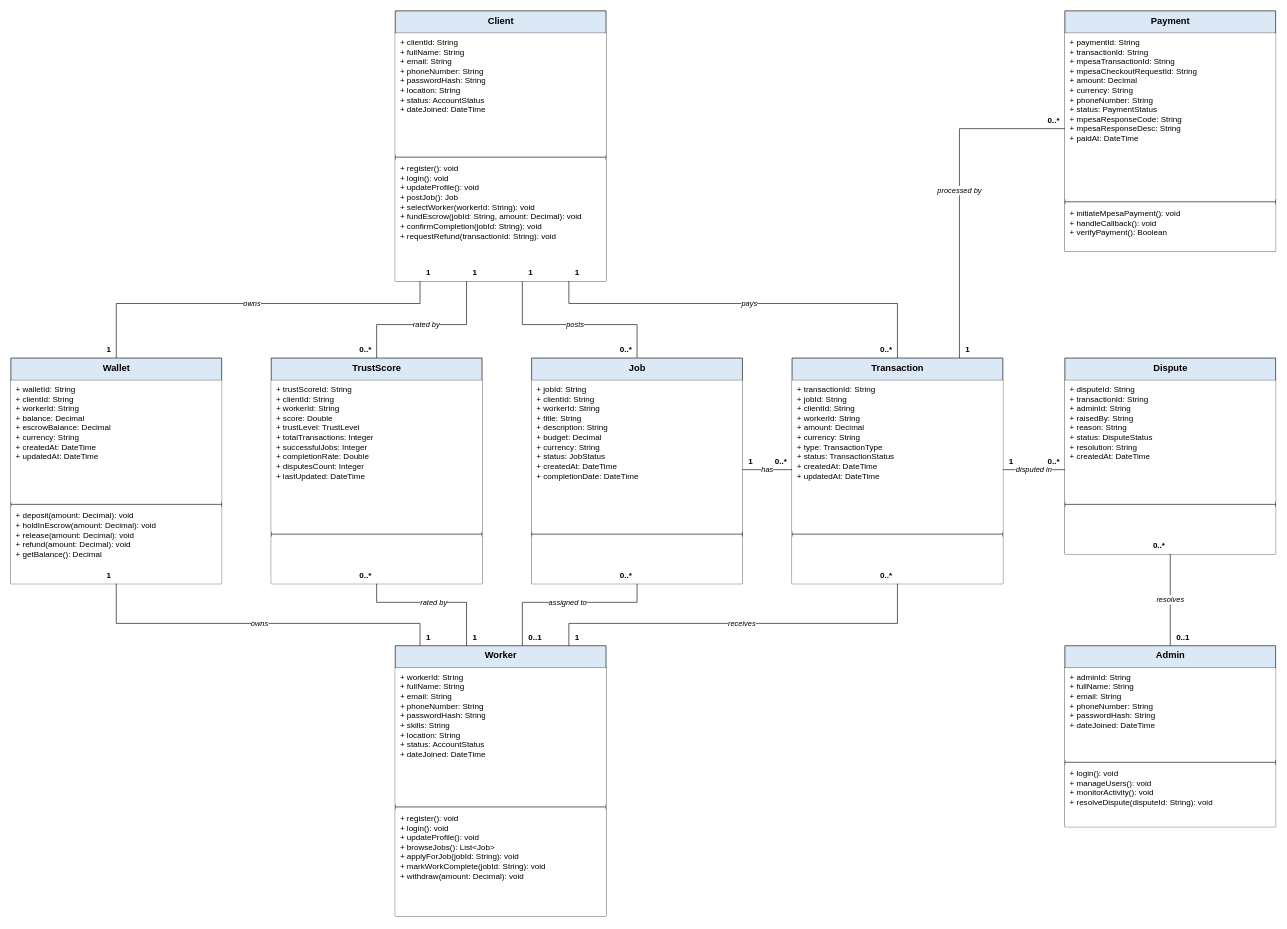
This 1287x929 diagram has some shape labels left out. Here are the shapes that lost their labels. From the top down, the centre of each, then its label:
the point at 1170,530: + raise(): void + resolve(resolution: String): void + close(): void
the point at 376,559: + calculateScore(): void + updateMetrics(): void + getTrustLevel(): String
the point at 636,559: + createJob(): void + updateJob(): void + closeJob(): void
the point at 897,559: + initiate(): void + updateStatus(): void + recordAmount(): void
